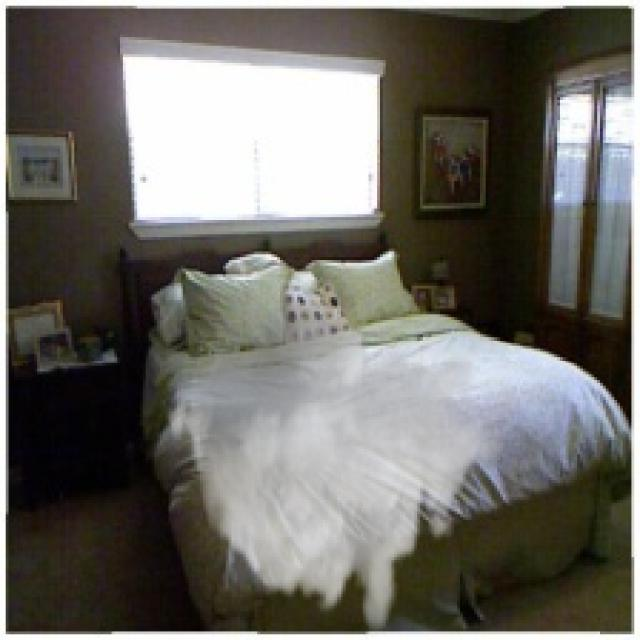smoke: (163, 289, 506, 637)
